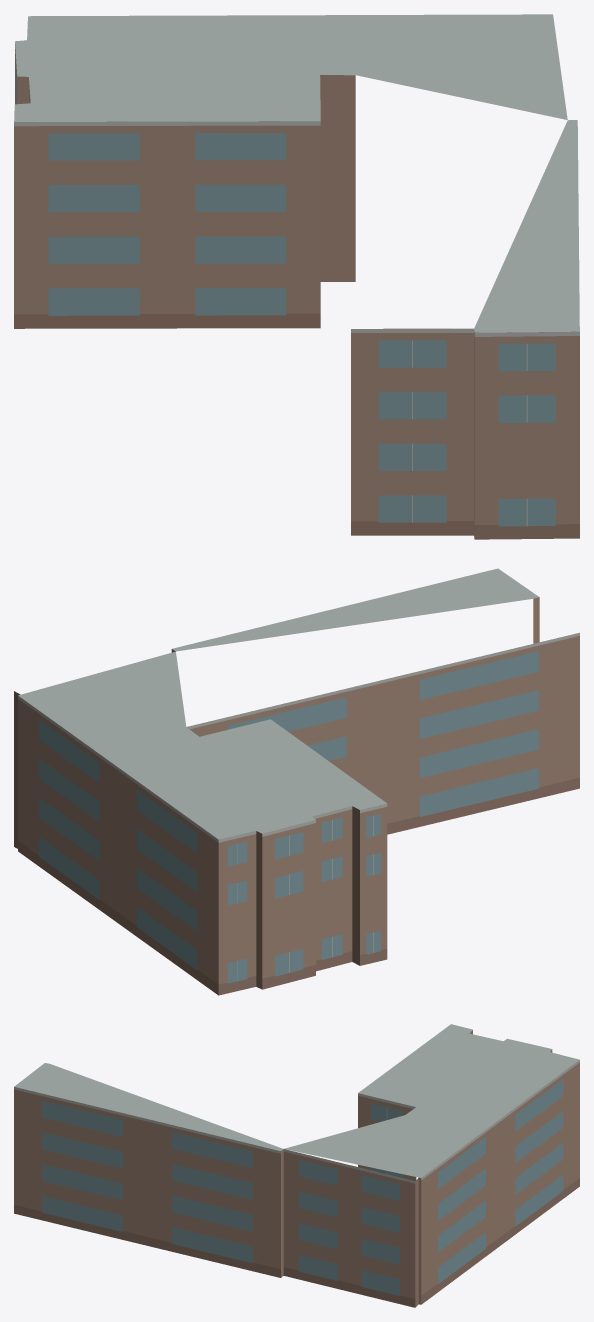
Rendered from survey-upis-32720265.glb.
3 views of the same model, one above another, from view 1: azimuth 30°, elevation 25°; view 2: azimuth 150°, elevation 25°; view 3: azimuth 270°, elevation 25° (orthographic). The views are drawn at different scales.
Parts seen in each view (by area): view 1: survey-upis-32720265.tmp; view 2: survey-upis-32720265.tmp; view 3: survey-upis-32720265.tmp.
Part boxes in pixels (left/top/right/bottom): survey-upis-32720265.tmp: left=14, top=14, right=579, bottom=539; survey-upis-32720265.tmp: left=14, top=568, right=579, bottom=995; survey-upis-32720265.tmp: left=14, top=1024, right=579, bottom=1307.
Bounding box in the file's own units: 31.86 × 12 × 48.54.
